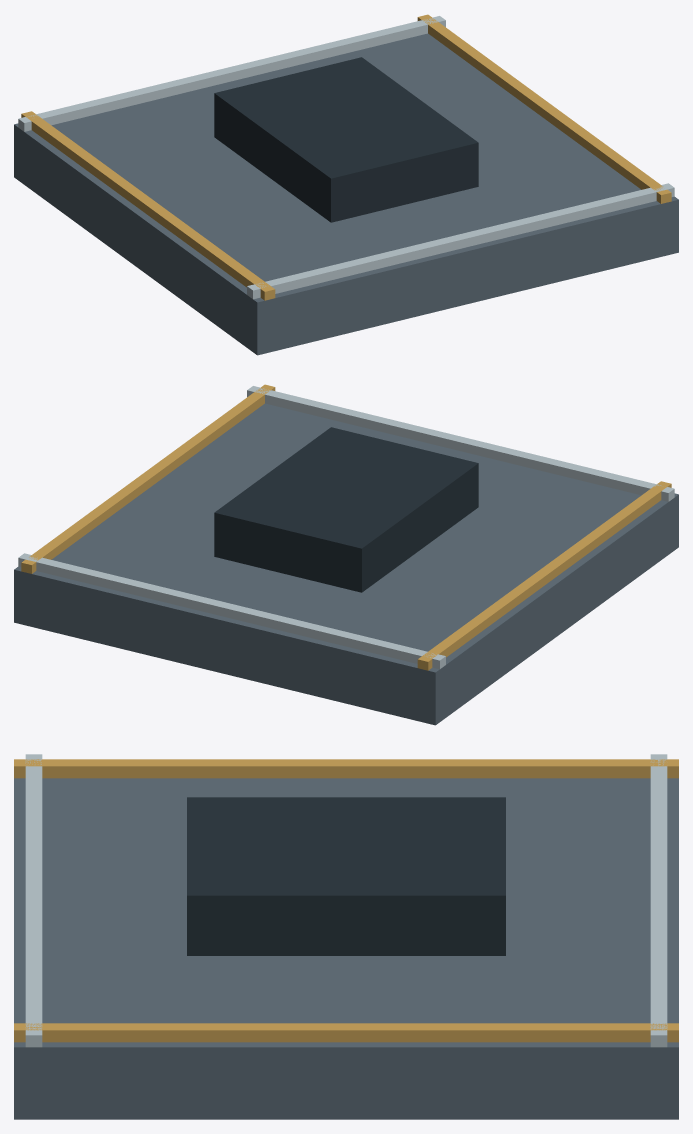
The model's file is roof.glb.
The picture shows the model from 3 angles, top to bottom: view 1: azimuth 30°, elevation 25°; view 2: azimuth 150°, elevation 25°; view 3: azimuth 270°, elevation 25°; orthographic projection. The views are drawn at different scales.
Visible parts, largest first — view 1: roof slab, roof vent, floor joint, floor joint.001, floor brass rim, floor brass rim.001; view 2: roof slab, roof vent, floor joint.001, floor joint, floor brass rim, floor brass rim.001; view 3: roof slab, roof vent, floor brass rim, floor brass rim.001, floor joint, floor joint.001.
Boxes of the visible parts, x1,y1,x2,y2 form: roof slab: (14, 33, 678, 355); roof vent: (214, 57, 478, 222); floor joint: (247, 183, 674, 299); floor joint.001: (18, 16, 445, 131); floor brass rim: (21, 111, 275, 300); floor brass rim.001: (417, 14, 671, 203); roof slab: (14, 403, 678, 725); roof vent: (214, 427, 478, 592); floor joint.001: (18, 553, 445, 669); floor joint: (247, 386, 674, 501); floor brass rim: (417, 481, 671, 670); floor brass rim.001: (21, 384, 275, 573); roof slab: (14, 778, 678, 1119); roof vent: (187, 797, 505, 955); floor brass rim: (14, 759, 678, 778); floor brass rim.001: (14, 1023, 678, 1042); floor joint: (25, 754, 42, 1047); floor joint.001: (650, 754, 667, 1047).
Bounding box in the file's own units: 1 × 0.22 × 1.
